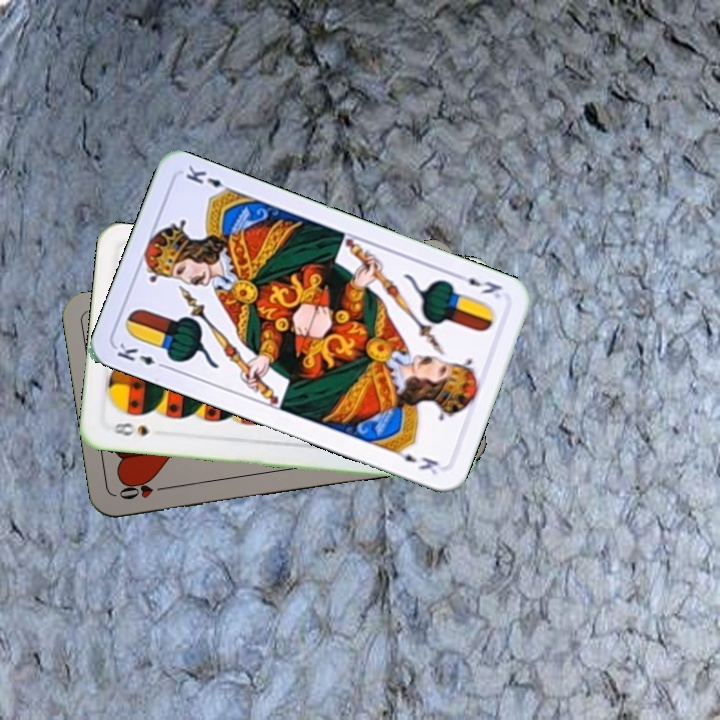EK: (113, 339, 171, 372), (452, 269, 505, 301)
HO: (115, 477, 173, 503)
S8: (109, 418, 152, 439)
